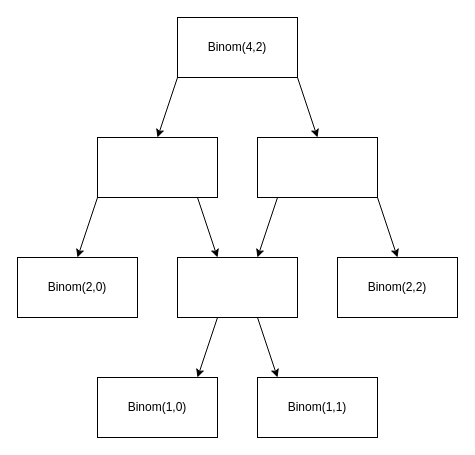
This 475x455 diagram has some shape labels left out. The shapes that lost their labels are listed below. From the top down, each one's centre as x and y in pixels, then its label:
At point (157, 167): "Binom(3,1)".
At point (317, 167): "Binom(3,2)".
At point (237, 287): "Binom(2,1)".
